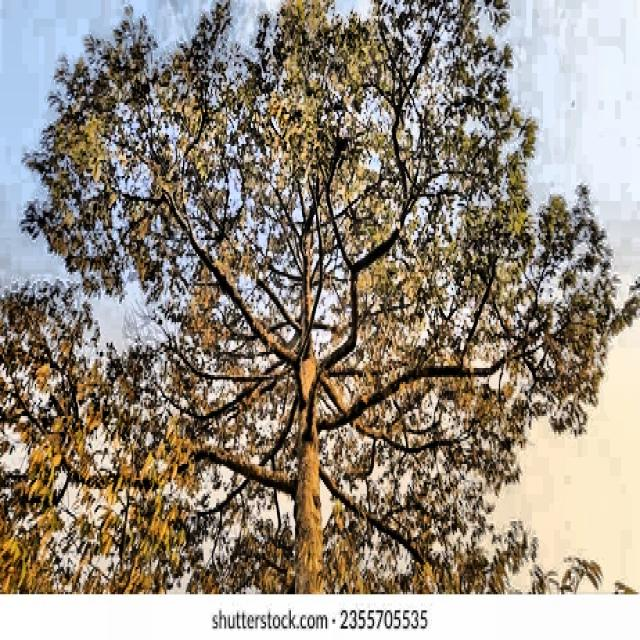arvore: (289, 235, 330, 605)
